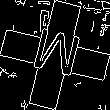M_S: (27, 25, 83, 85)
